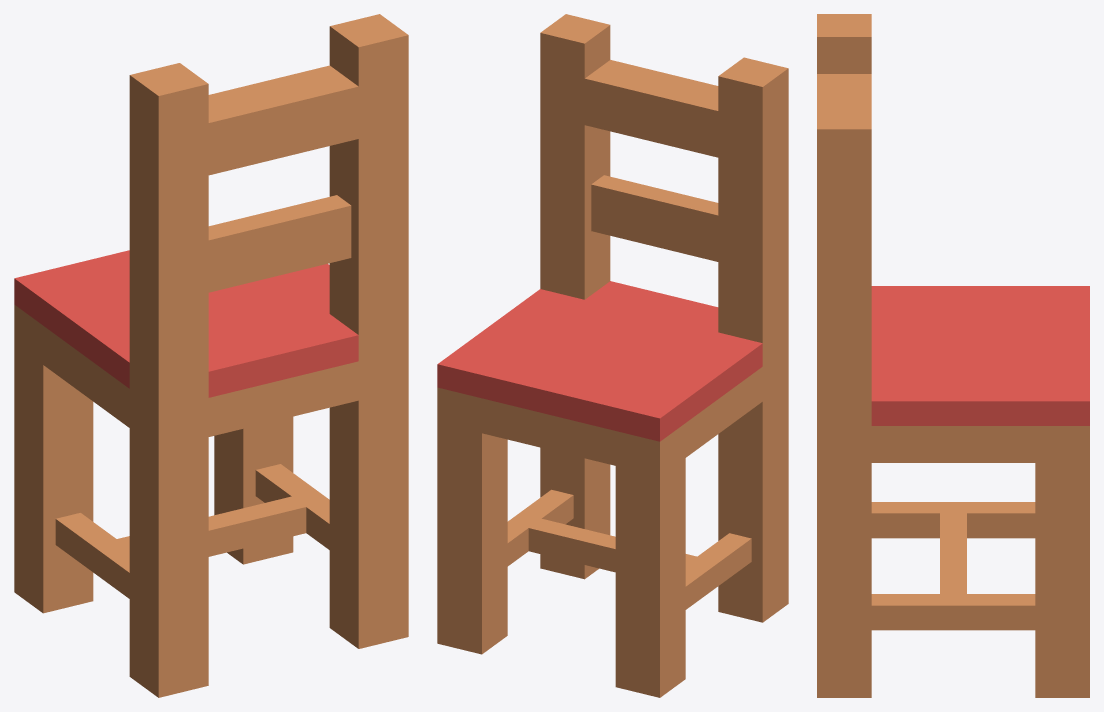
The model's file is Chair Cushion.glb.
The picture shows the model from 3 angles, left to right: view 1: azimuth 30°, elevation 25°; view 2: azimuth 150°, elevation 25°; view 3: azimuth 270°, elevation 25°; orthographic projection. The views are drawn at different scales.
Visible parts, largest first — view 1: chairCushion; view 2: chairCushion; view 3: chairCushion.
Part boxes in pixels (left/top/right/bottom): chairCushion: left=14, top=14, right=408, bottom=697; chairCushion: left=437, top=14, right=788, bottom=697; chairCushion: left=817, top=14, right=1089, bottom=697.
Size of the model in its own units: 0.2 by 0.46 by 0.2.
